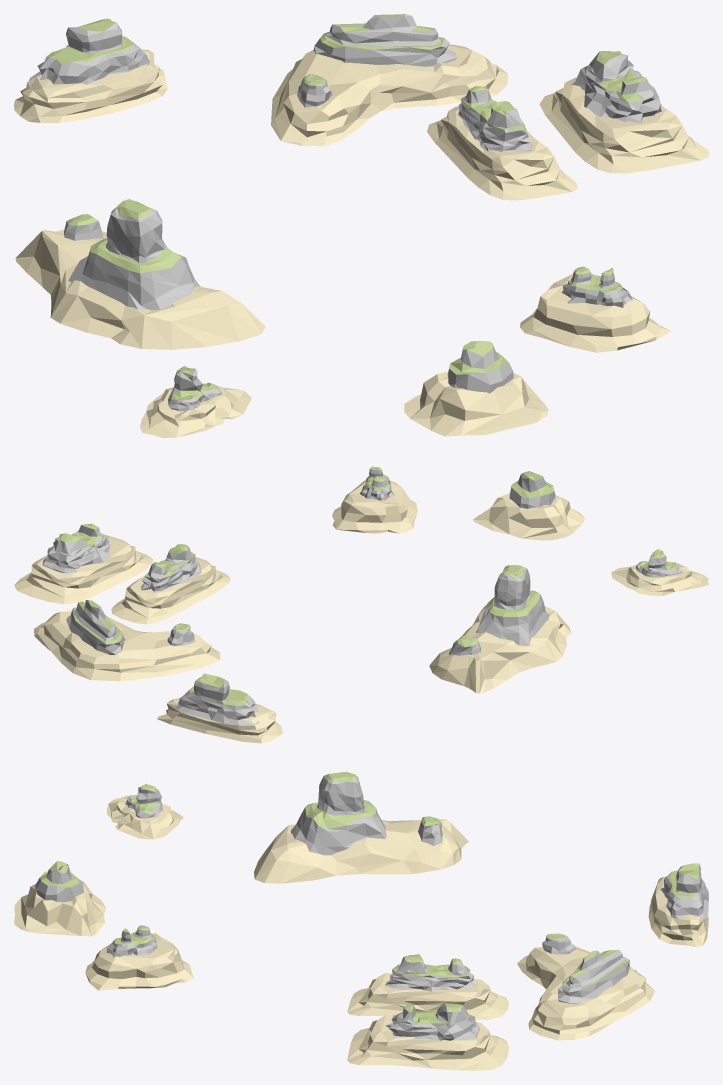
Rendered from island.fbx.
3 renders of one model, top to bottom at view 1: azimuth 30°, elevation 25°; view 2: azimuth 150°, elevation 25°; view 3: azimuth 270°, elevation 25°, orthographic. The views are drawn at different scales.
Parts seen in each view (by area): view 1: Plane, Plane.009, Plane.007, Plane.005, Plane.004, Plane.002, Plane.012, Plane.011, Plane.001, Plane.013, Plane.008, Plane.006 (+3 smaller); view 2: Plane, Plane.009, Plane.007, Plane.005, Plane.004, Plane.002, Plane.013, Plane.001, Plane.012, Plane.008, Plane.011, Plane.006 (+3 smaller); view 3: Plane, Plane.009, Plane.007, Plane.005, Plane.002, Plane.004, Plane.001, Plane.008, Plane.011, Plane.006, Plane.012, Plane.013 (+3 smaller).
Boxes of the visible parts, x1,y1,x2,y2 form: Plane: (15,199,265,349); Plane.009: (271,44,507,146); Plane.007: (539,77,708,173); Plane.005: (427,106,577,200); Plane.004: (404,371,548,436); Plane.002: (520,271,670,352); Plane.012: (14,49,167,122); Plane.011: (313,14,456,66); Plane.001: (140,366,251,437); Plane.013: (28,18,149,85); Plane.008: (571,51,662,122); Plane.006: (457,86,532,152); Plane: (429,565,571,693); Plane.009: (34,610,220,681); Plane.007: (14,534,152,604); Plane.005: (111,557,230,624); Plane.004: (473,492,584,540); Plane.002: (332,480,417,533); Plane.013: (175,673,259,725); Plane.001: (611,549,708,595); Plane.012: (157,698,283,743); Plane.008: (42,523,111,573); Plane.011: (66,600,125,654); Plane.006: (141,544,201,592); Plane: (254,772,468,883); Plane.009: (517,946,654,1040); Plane.007: (347,1014,508,1070); Plane.005: (347,972,508,1020); Plane.002: (85,933,193,990); Plane.004: (14,879,105,936); Plane.001: (107,784,183,839); Plane.008: (385,1003,479,1042); Plane.011: (558,950,629,1003); Plane.006: (385,954,476,991); Plane.012: (648,876,708,946); Plane.013: (660,863,708,920).
Bounding box in the file's own units: 487 × 526 × 67.85.
